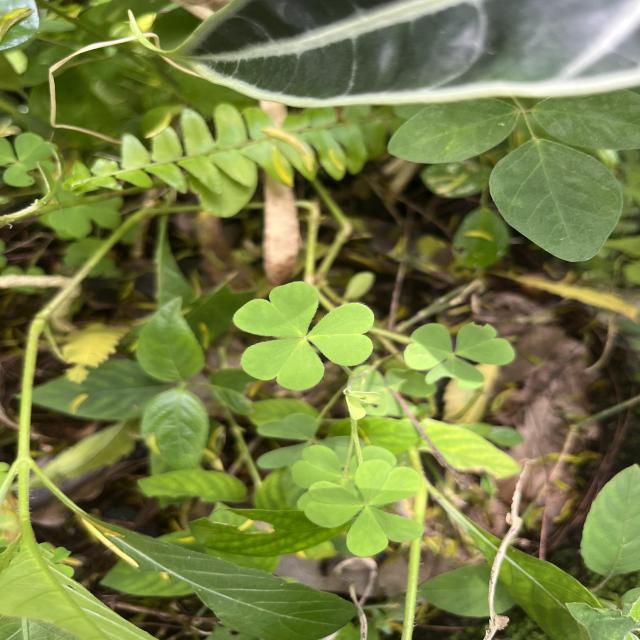Oxalis corniculata: (232, 279, 378, 393), (296, 458, 425, 558), (402, 320, 516, 392)
